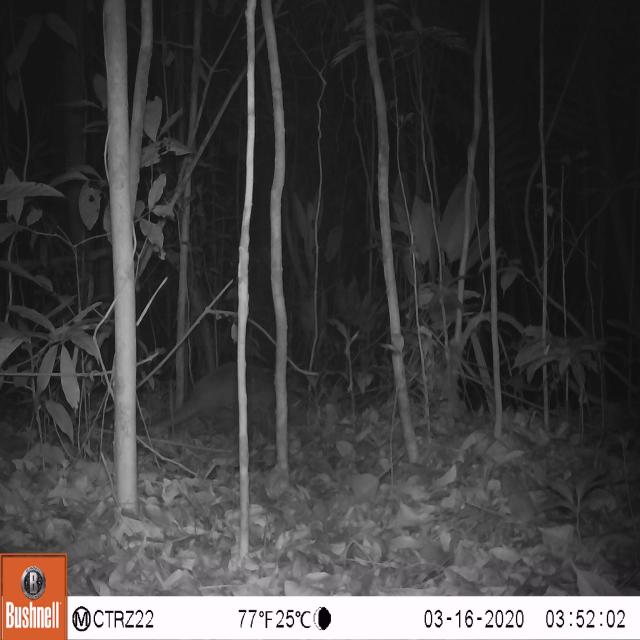Armadillo: (137, 348, 311, 440)
